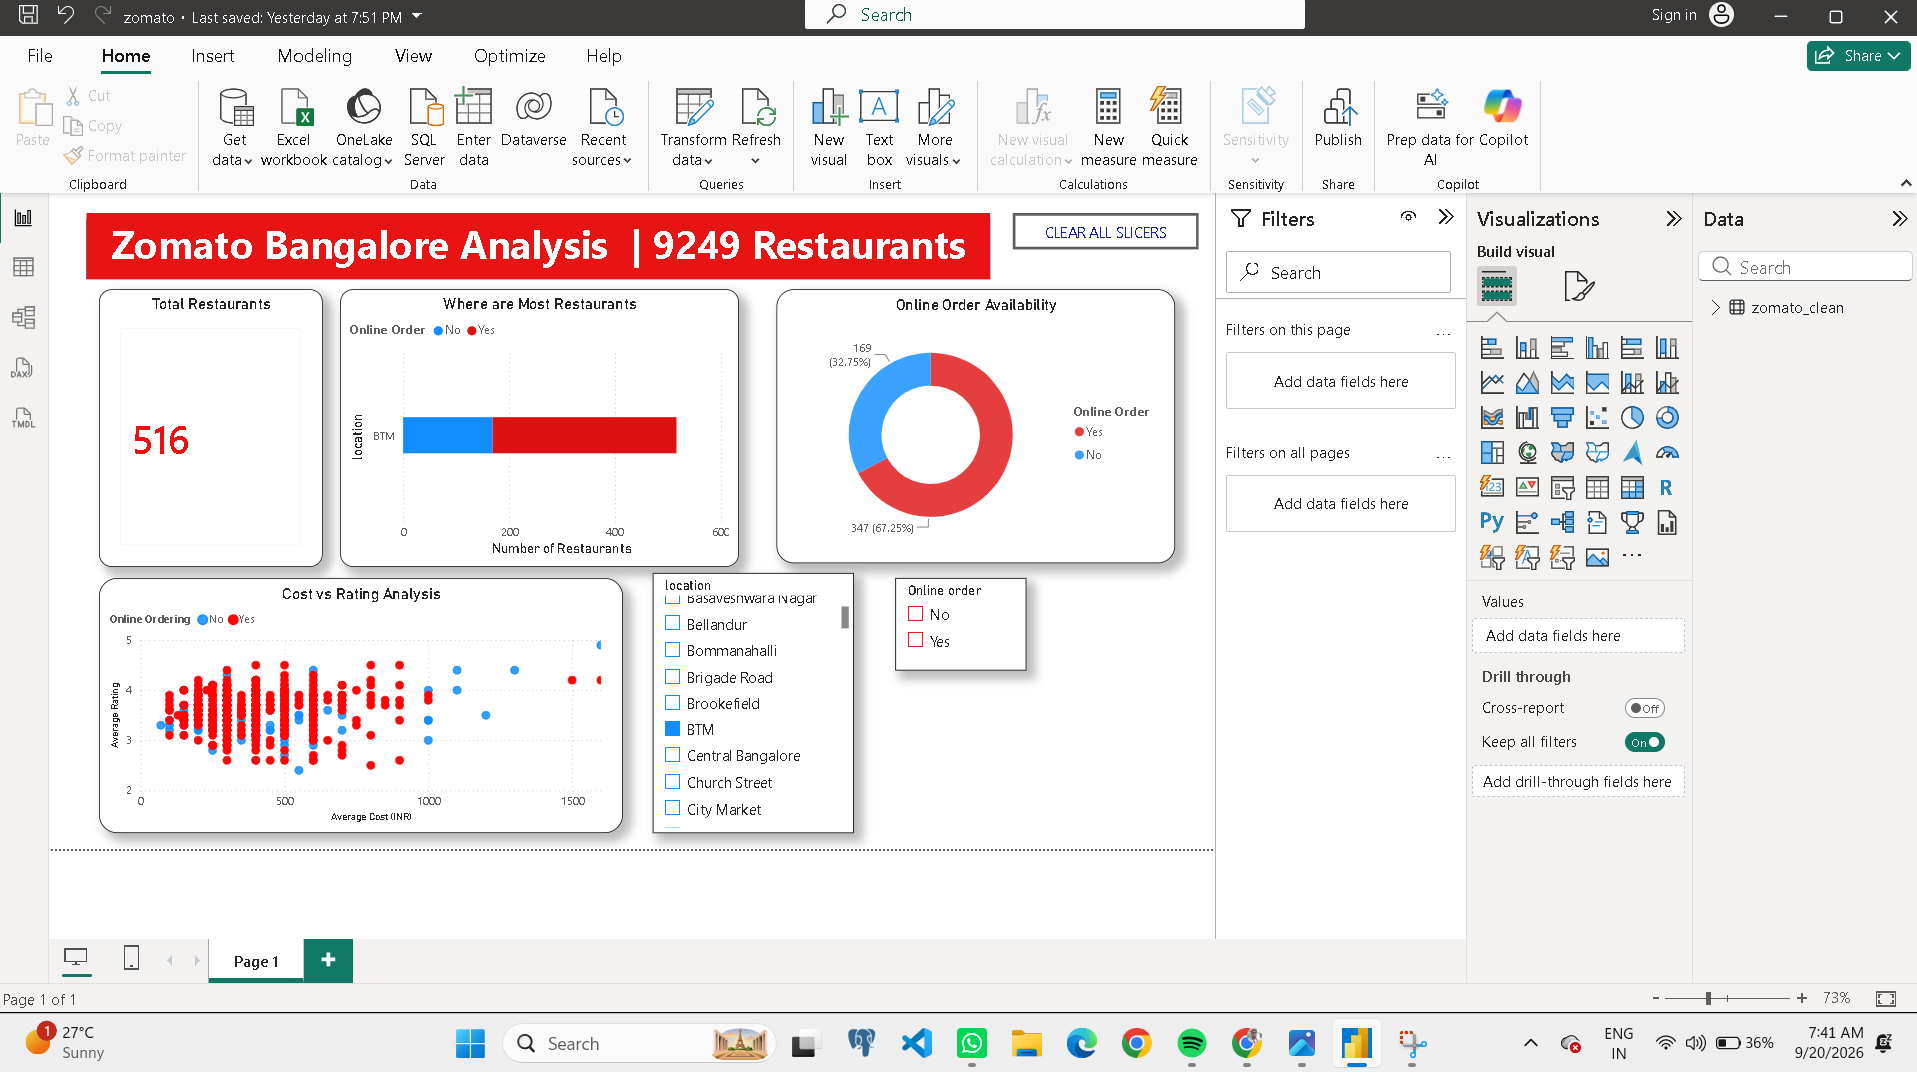

The page's visual inventory and layout, read from the dashboard file:
{"tool":"powerbi","page":{"name":"Page 1","canvas":[1280,720],"ordinal":0},"visuals":[{"type":"cardVisual","title":"Total Restaurants","fields":{"Data":["CountNonNull(zomato_clean.name)"]},"box":[54.9,105.7,245.6,304.6],"z":0},{"type":"barChart","title":"Where are Most Restaurants","fields":{"Category":["zomato_clean.location"],"Y":["CountNonNull(zomato_clean.name)"],"Series":["zomato_clean.online_order"]},"box":[319.7,105.7,437.7,304.6],"z":1000},{"type":"donutChart","title":"Online Order Availability","fields":{"Category":["zomato_clean.online_order"],"Y":["CountNonNull(zomato_clean.name)"]},"box":[798.6,105.7,437.7,300.5],"z":2000},{"type":"scatterChart","title":"Cost vs Rating Analysis","fields":{"X":["Avg(zomato_clean.cost)"],"Y":["Avg(zomato_clean.rate)"],"Category":["zomato_clean.name"],"Series":["zomato_clean.online_order"]},"box":[54.9,422.6,575,279.9],"z":3000},{"type":"slicer","fields":{"Values":["zomato_clean.location"]},"box":[662.8,417.2,220.9,285.4],"z":4000},{"type":"actionButton","box":[1058.6,21.4,204.3,40],"z":5000},{"type":"slicer","fields":{"Values":["zomato_clean.online_order"]},"box":[929,422.6,144.1,101.5],"z":6000},{"type":"shape","title":"z","box":[41.2,4.1,992.1,90.6],"z":7000},{"type":"textbox","box":[41.2,22,992.1,72.7],"z":8000}]}

Visuals, with their boxes on the page's 1280x720 design canvas (x1, y1, x2, y2). These are canvas units, not pixel positions in the 1917x1072 screenshot, which may show the page scaled, cropped or inside an application window:
"Total Restaurants" cardVisual: [55, 106, 300, 410]
"Where are Most Restaurants" barChart: [320, 106, 757, 410]
"Online Order Availability" donutChart: [799, 106, 1236, 406]
"Cost vs Rating Analysis" scatterChart: [55, 423, 630, 702]
slicer - zomato_clean.location: [663, 417, 884, 703]
actionButton: [1059, 21, 1263, 61]
slicer - zomato_clean.online_order: [929, 423, 1073, 524]
"z" shape: [41, 4, 1033, 95]
textbox: [41, 22, 1033, 95]
